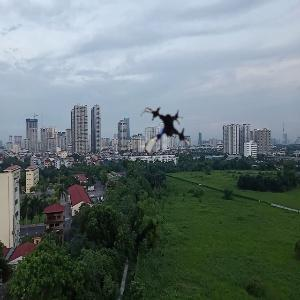drone: (134, 103, 197, 166)
